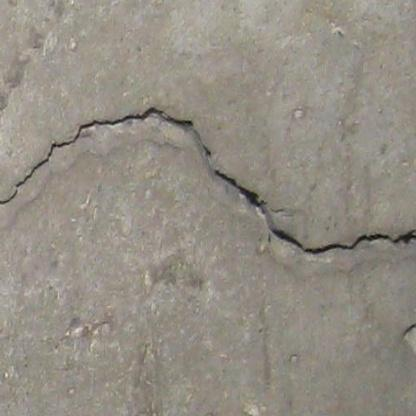Cracks: (0, 104, 217, 220), (269, 227, 416, 259), (212, 167, 265, 211)
